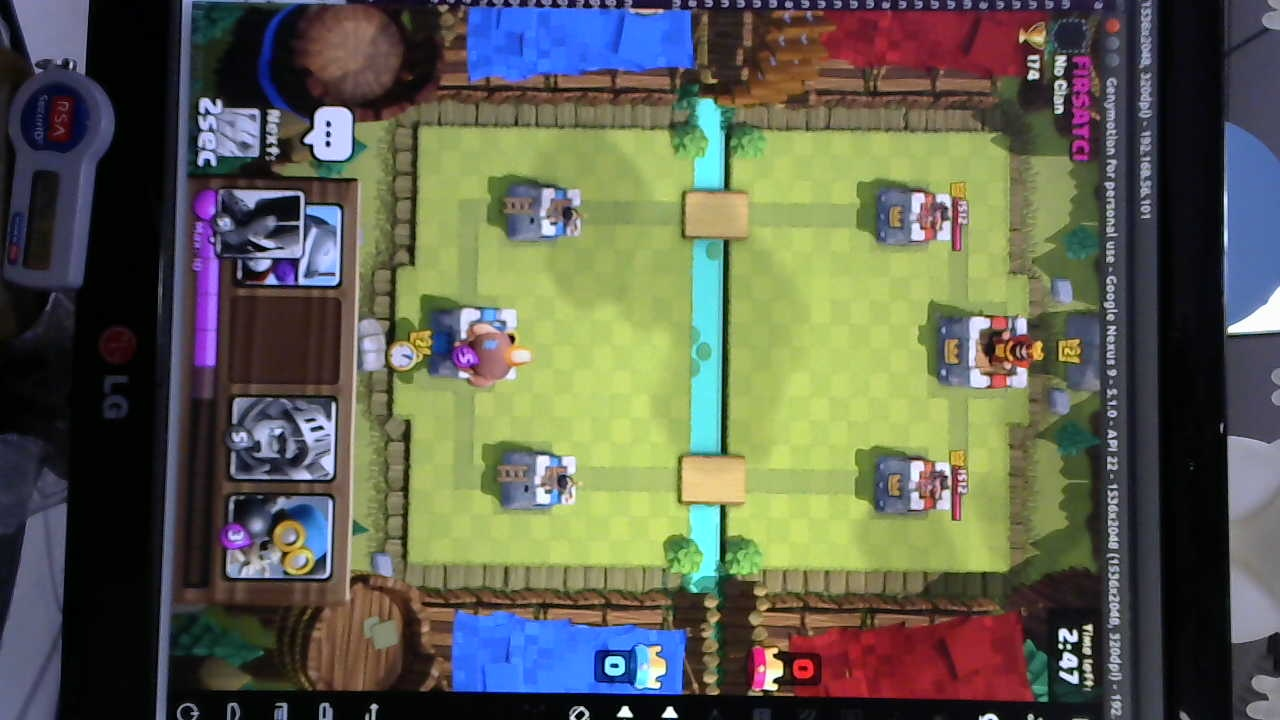giant: (387, 322, 531, 390)
